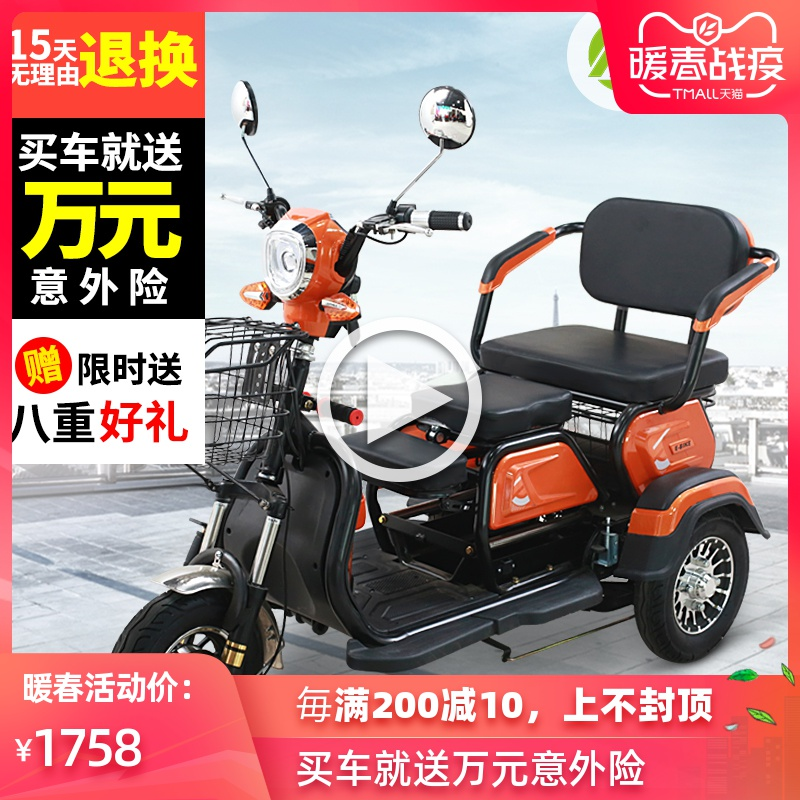电动车: (93, 77, 782, 730)
